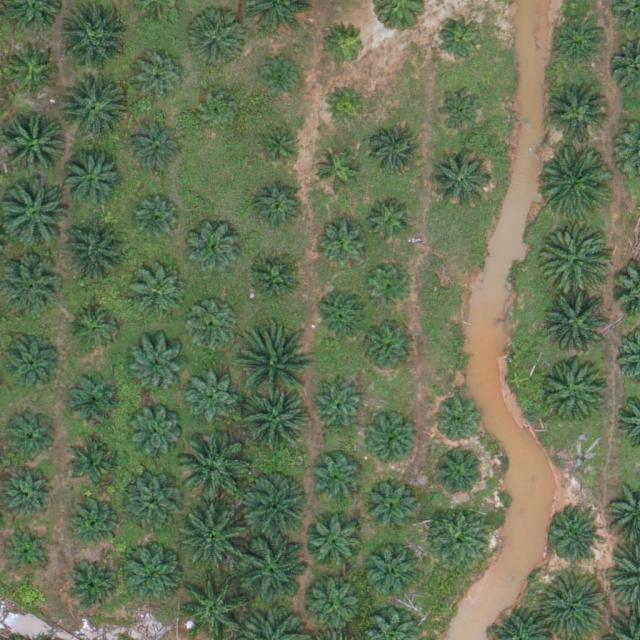Healthy: (240, 331, 311, 402), (236, 471, 307, 542), (544, 292, 614, 363), (539, 224, 610, 294), (542, 146, 612, 217), (239, 389, 309, 460), (56, 222, 127, 292), (3, 111, 73, 182), (239, 532, 309, 602), (181, 505, 251, 575), (179, 435, 249, 505), (57, 4, 127, 74), (57, 75, 127, 145), (545, 360, 608, 423), (307, 512, 370, 575), (430, 150, 492, 213), (305, 572, 367, 635), (429, 506, 491, 569), (361, 544, 423, 607), (122, 477, 184, 540), (62, 151, 124, 214), (547, 82, 609, 145), (121, 543, 183, 605), (187, 7, 249, 69), (316, 216, 371, 272), (252, 181, 307, 236), (244, 254, 299, 309), (359, 321, 414, 376), (310, 381, 365, 436), (311, 452, 366, 507), (363, 476, 418, 531), (129, 343, 184, 398), (129, 406, 184, 461), (4, 334, 59, 389), (3, 465, 58, 520), (66, 561, 121, 616), (68, 301, 123, 356), (186, 301, 241, 356), (8, 39, 63, 94), (129, 122, 184, 177), (133, 48, 188, 103), (434, 10, 489, 65), (436, 84, 491, 139), (369, 124, 424, 179), (546, 506, 600, 561), (315, 288, 369, 343), (366, 416, 420, 471), (433, 445, 487, 500), (3, 413, 57, 468), (65, 493, 119, 548), (70, 432, 124, 487), (65, 371, 119, 426), (187, 221, 241, 276), (185, 372, 239, 427), (131, 266, 185, 321), (551, 12, 605, 67)
Small: (134, 197, 181, 245), (257, 54, 304, 102), (367, 266, 414, 314), (4, 525, 51, 573), (435, 399, 482, 447), (256, 124, 303, 172), (323, 23, 370, 70), (314, 148, 361, 195), (197, 89, 244, 136), (369, 201, 416, 248), (323, 83, 370, 130)
